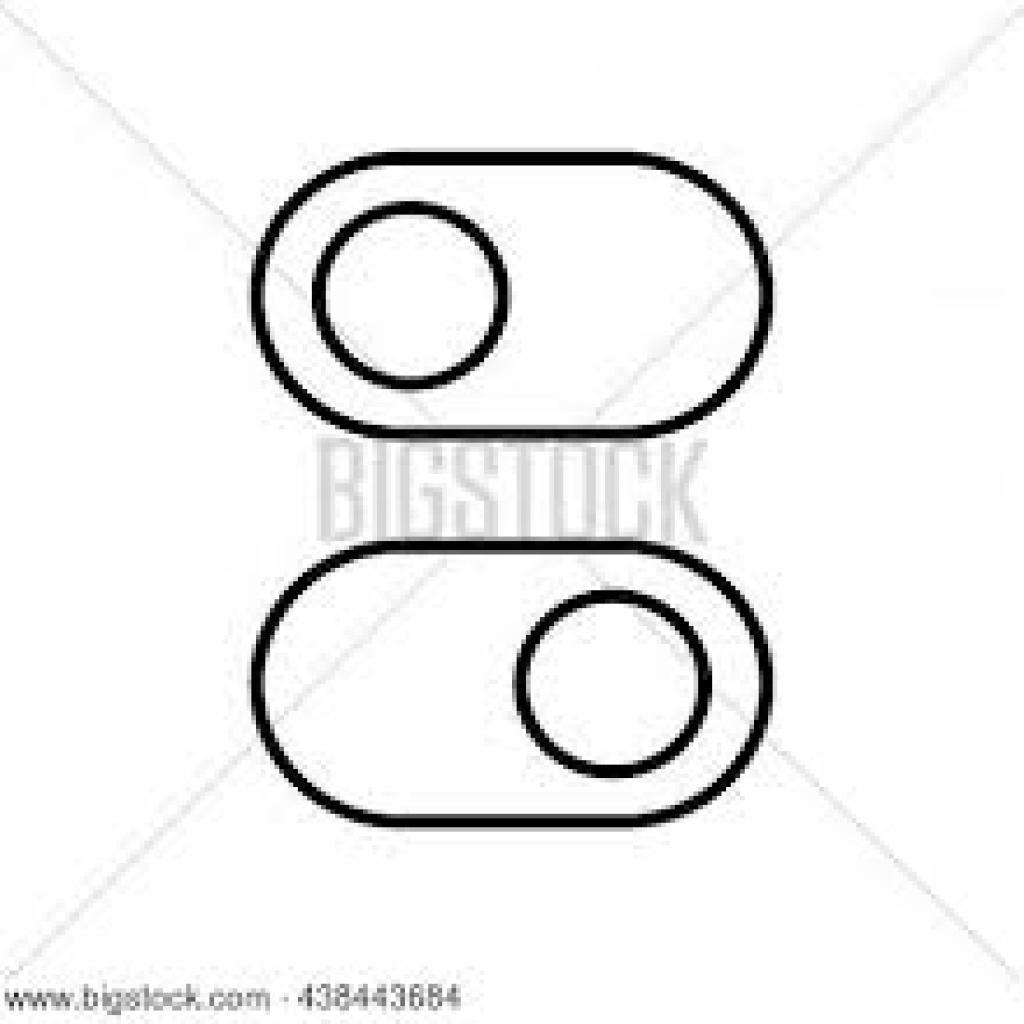switch: (250, 540, 779, 829), (248, 150, 773, 439)
